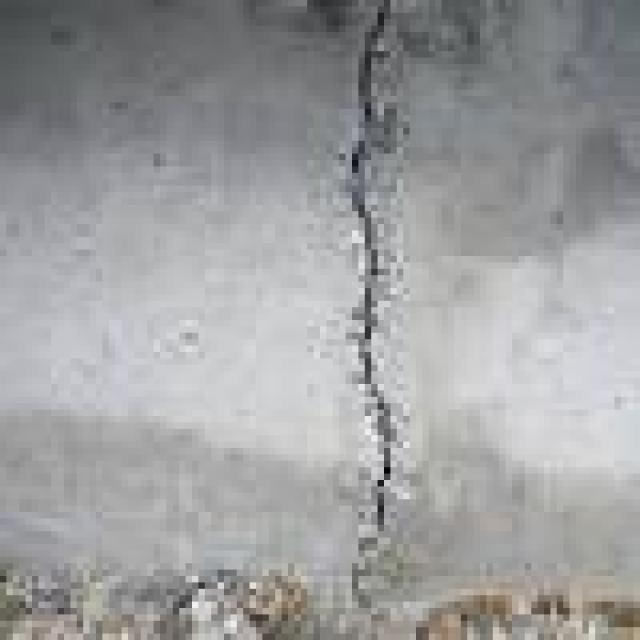Crack: (332, 0, 390, 614)
